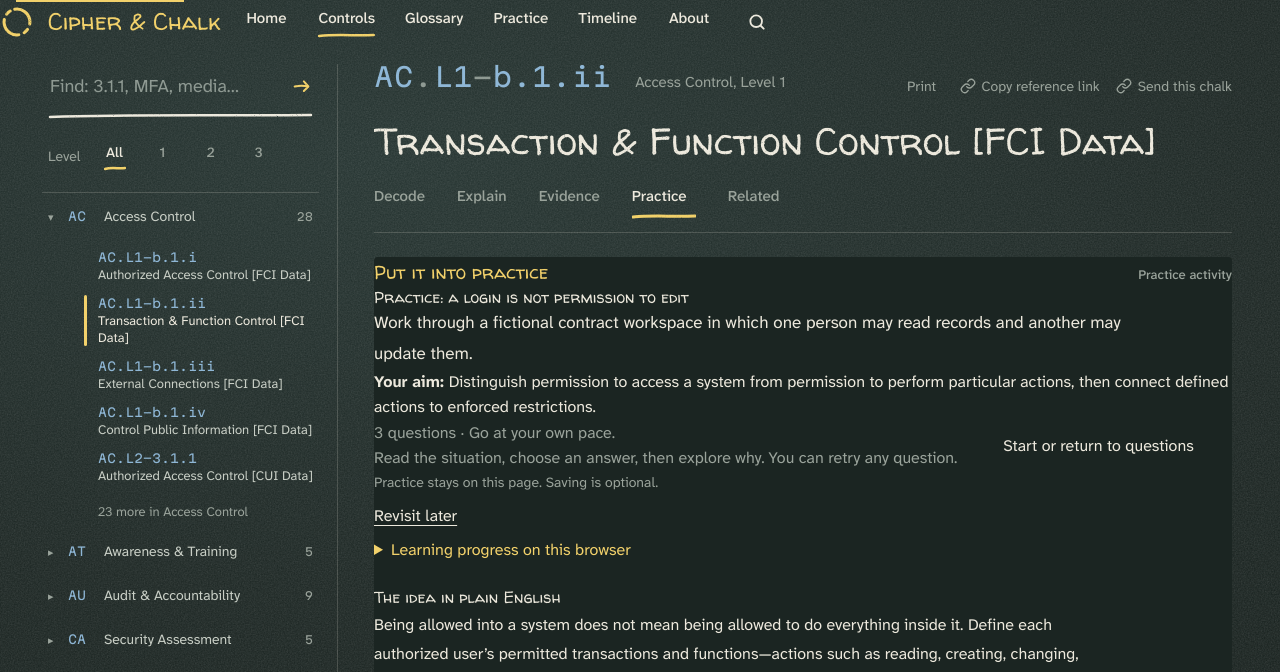
Control views › offers its views and keeps the practice on its own view for level-one-permitted-actions
Check: the heading "Transaction & Function Control [FCI Data]" is shown, box [374,122,1232,160]
Check: the heading "Practice: a login is not permission to edit" is shown, box [374,287,689,307]
Click the link "Decode".
click(399, 196)  # box [374,186,425,206]
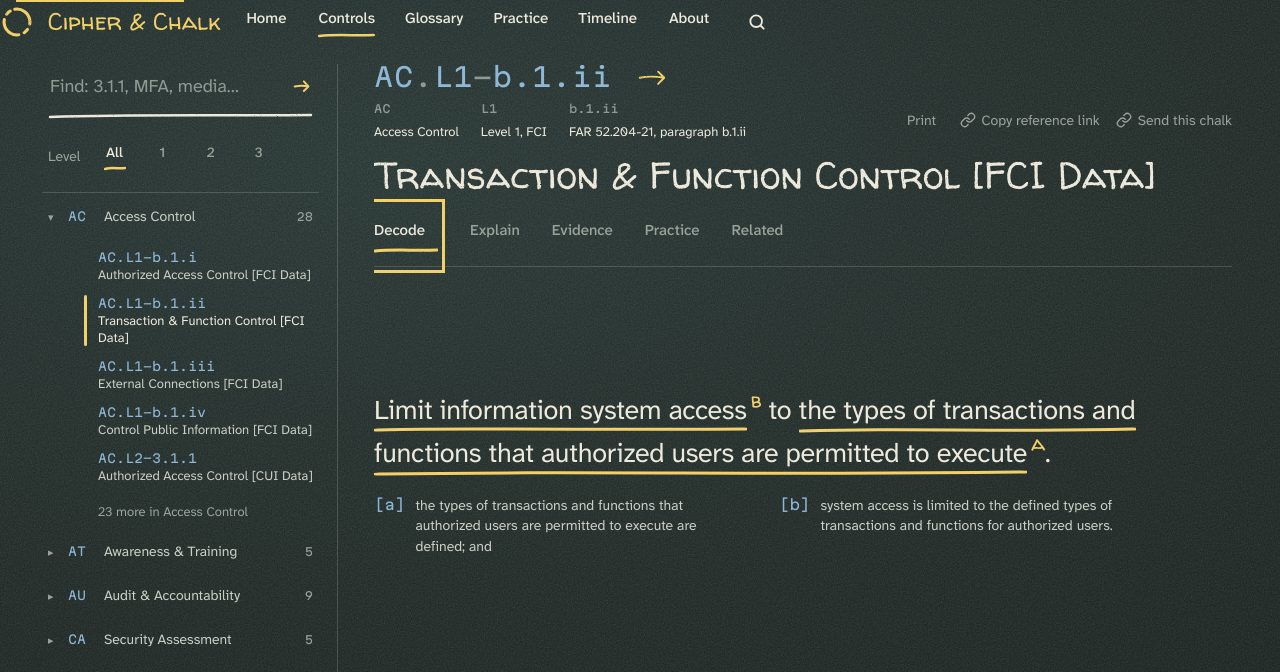
Check: the heading "Practice: a login is not permission to edit" is gone
